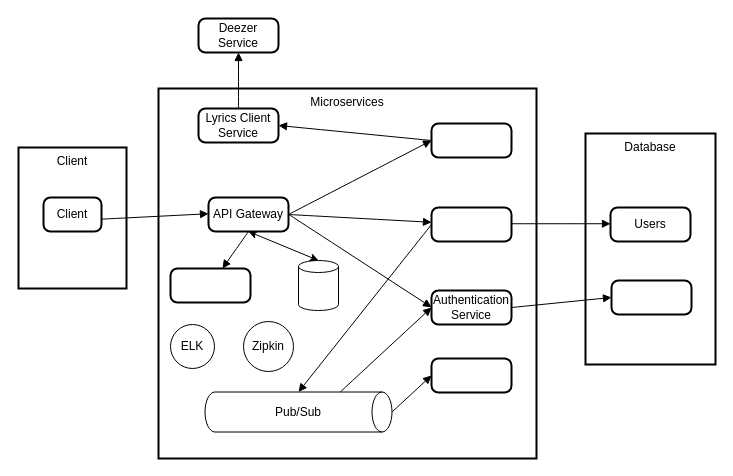
Image size: 733x476. Some labels were removed from this diagram. Each missing label, with the centre of its shape:
Credentials: pixel 651 297
Discovery Service: pixel 210 285
Email Service: pixel 471 375
Lyrics Service: pixel 471 140
Redis: pixel 318 285
User Service: pixel 471 224
